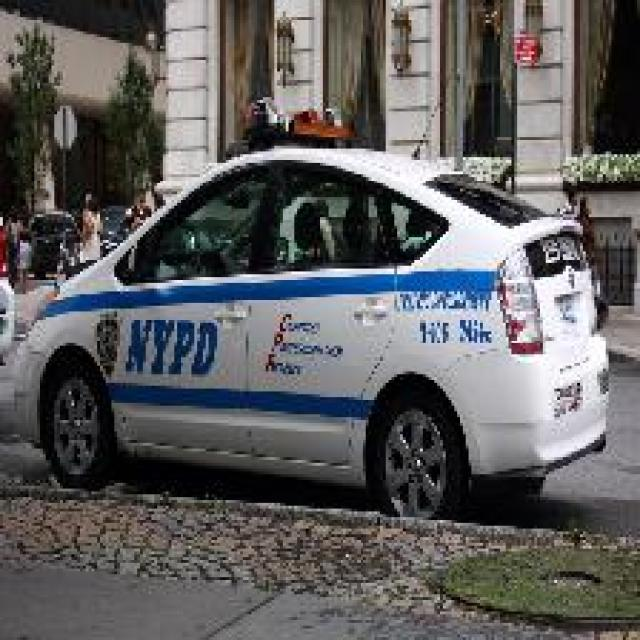Police-car: (0, 137, 611, 520)
